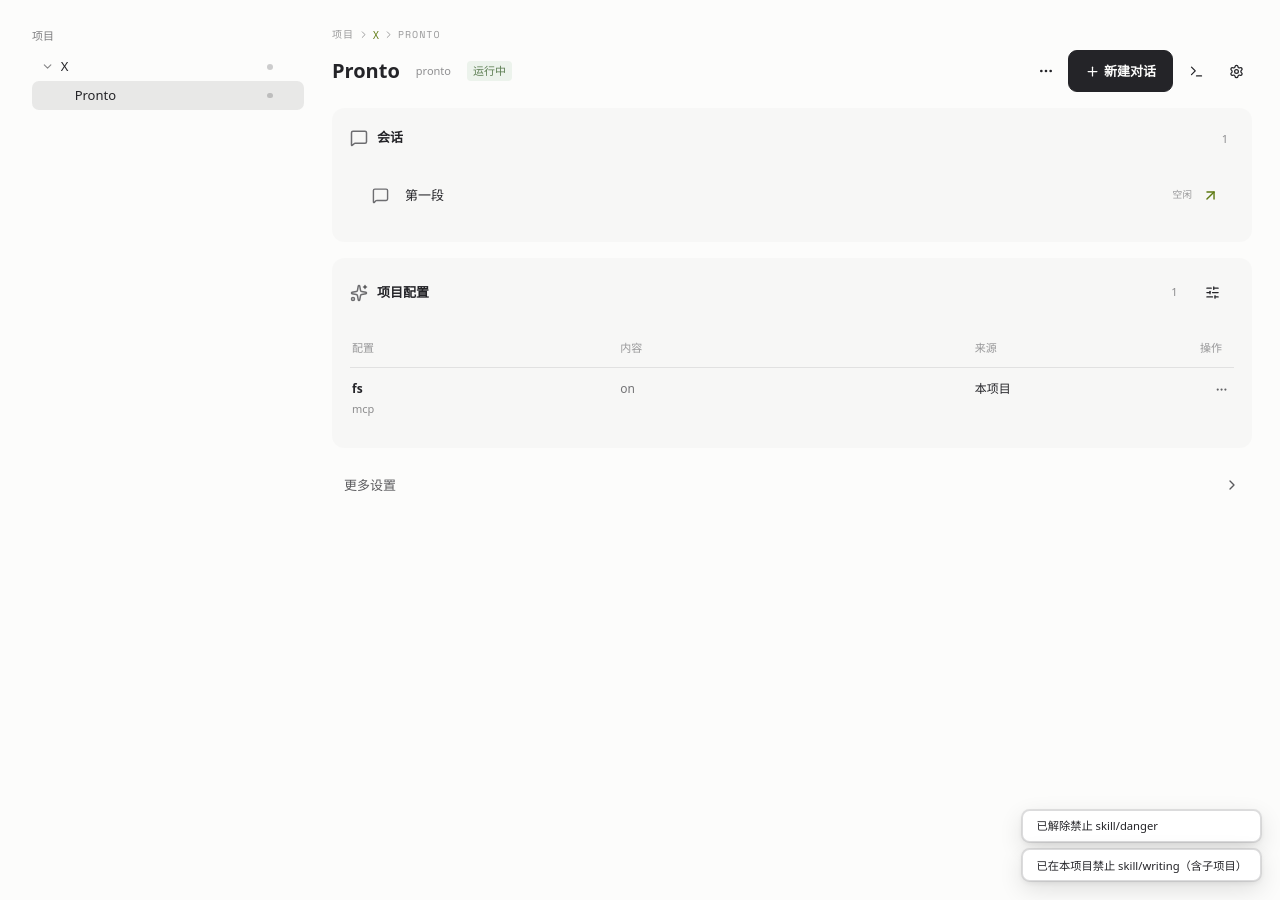
项目详情页 › 能力分区的隐藏规则 › 操作列（写端点已就位） › 写失败不改表：报一句人话，表里那一行照旧
Step 1. Click the button named "能力操作" → (1222, 390), box [1212,380,1232,400]
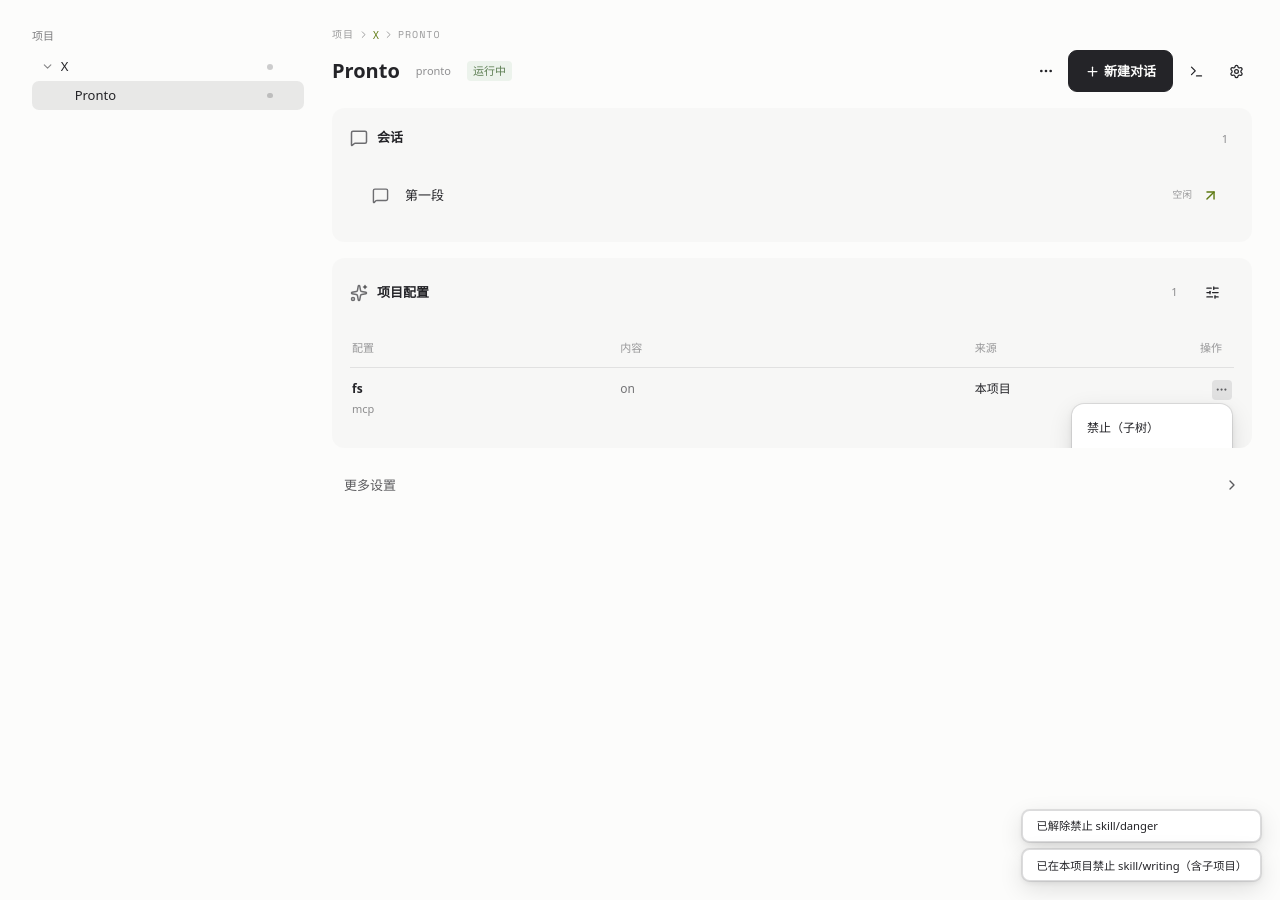
Step 2. Click the menu item with test id "cap-action-block" → (1152, 428), box [1078,410,1226,446]
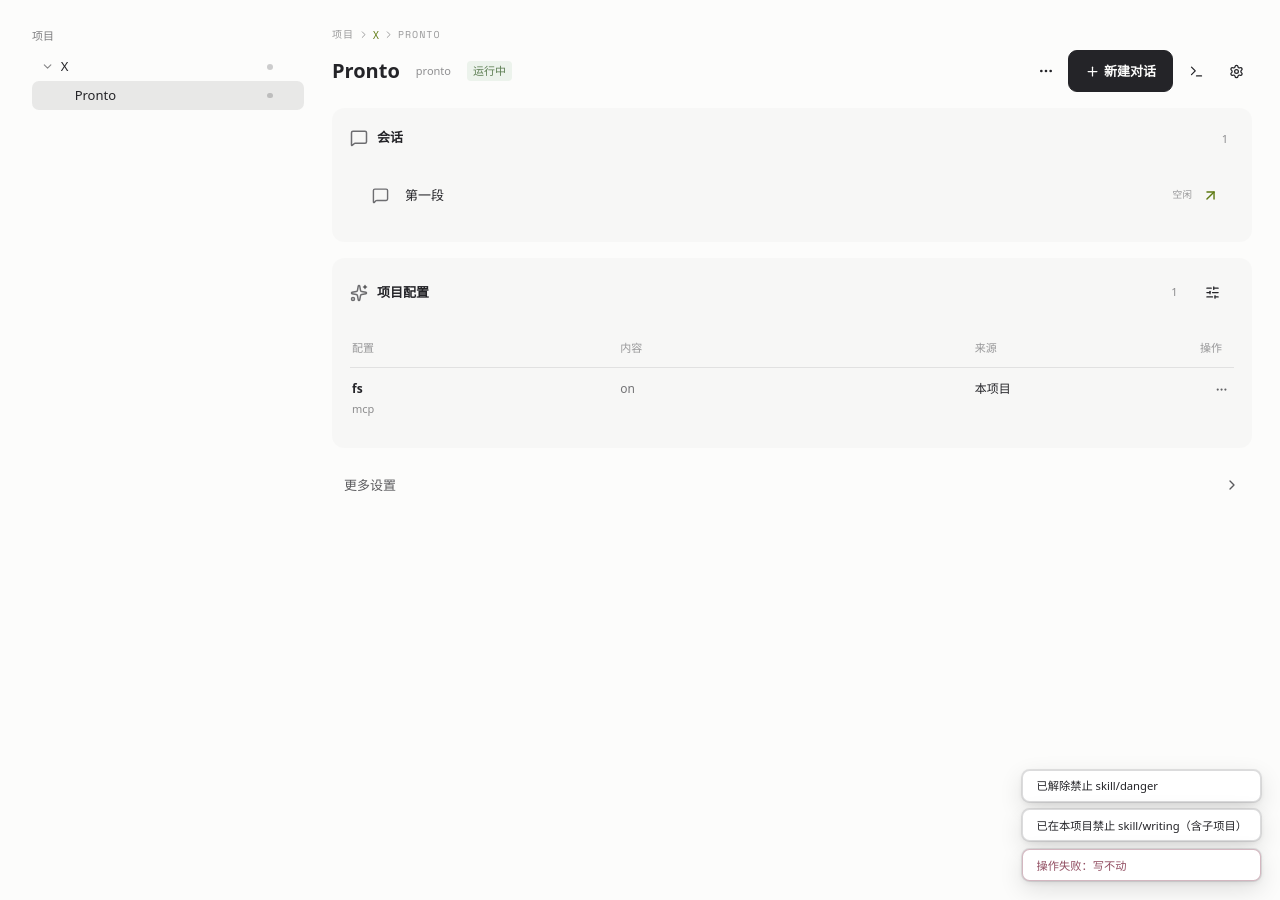
expect the text "fs" is shown: met, box [352,380,363,397]
expect the text "操作失败：写不动" is shown: met, box [1036,858,1126,873]
